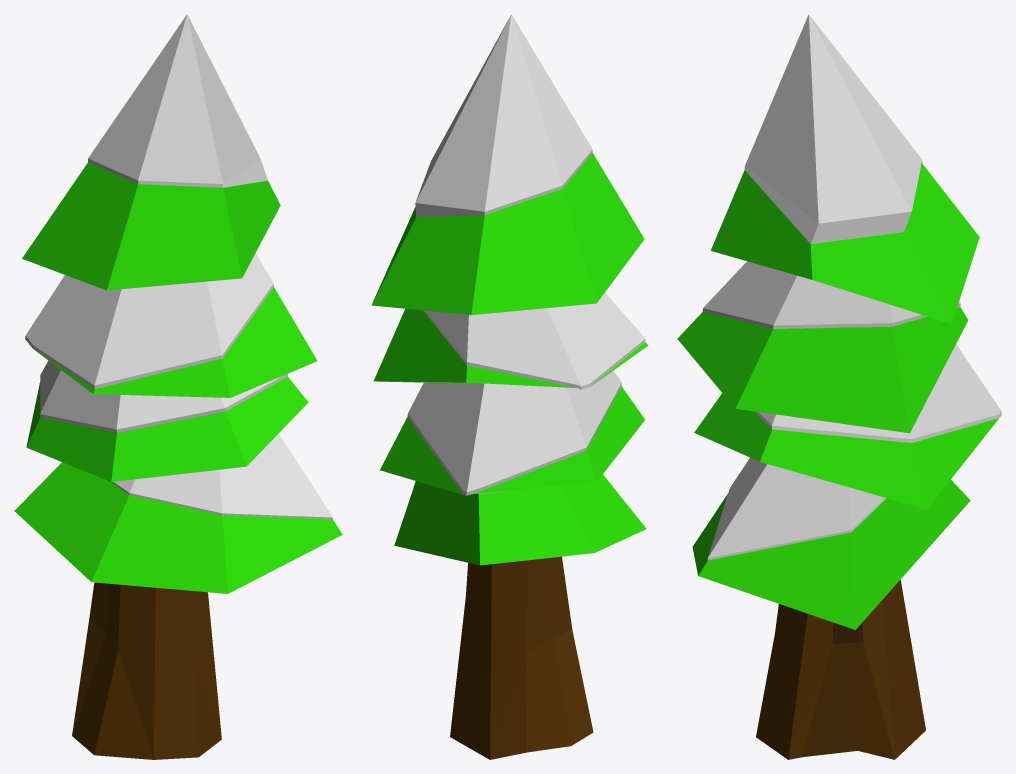
Rendered from Pine tree#3_Snow.fbx.
The picture shows the model from 3 angles, left to right: view 1: azimuth 30°, elevation 25°; view 2: azimuth 150°, elevation 25°; view 3: azimuth 270°, elevation 25°; orthographic projection. The views are drawn at different scales.
Visible parts, largest first — view 1: Pine tree#3_Snow; view 2: Pine tree#3_Snow; view 3: Pine tree#3_Snow.
Boxes of the visible parts, x1,y1,x2,y2 form: Pine tree#3_Snow: (14,14,342,759); Pine tree#3_Snow: (372,14,648,759); Pine tree#3_Snow: (677,14,1001,759).
Bounding box in the file's own units: 421 × 1266 × 506.
